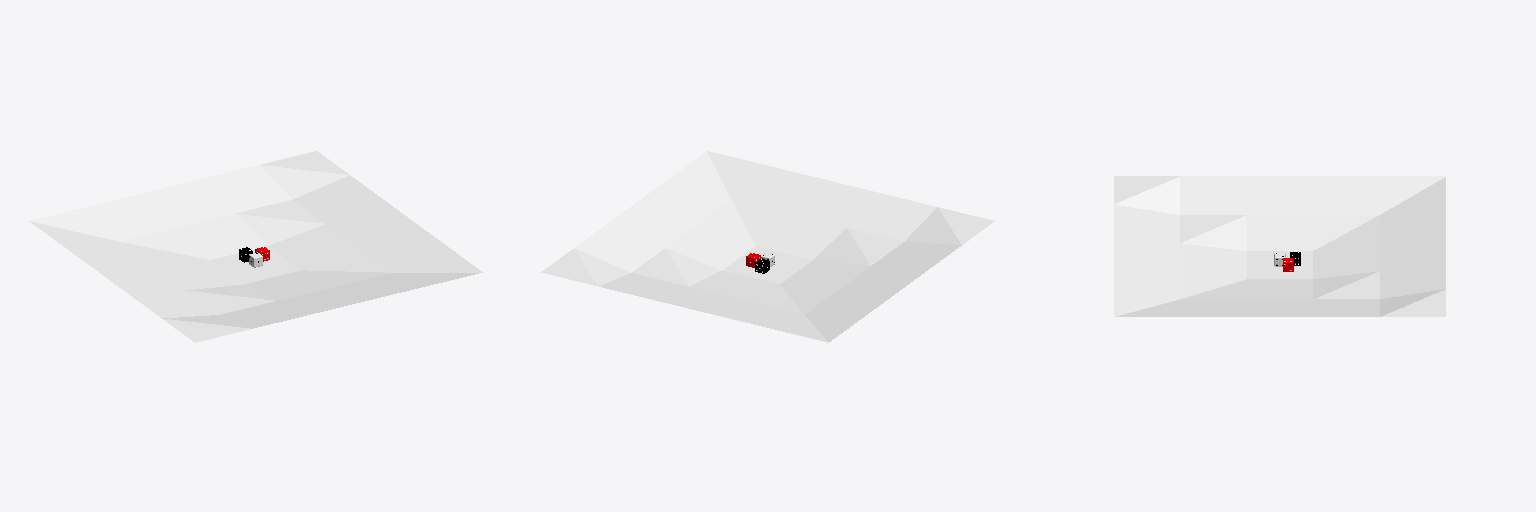
The model's file is Dices.obj.
3 views of the same model, side by side, from view 1: azimuth 30°, elevation 25°; view 2: azimuth 150°, elevation 25°; view 3: azimuth 270°, elevation 25° (orthographic).
Visible parts, largest first — view 1: Floor; view 2: Floor; view 3: Floor.
Boxes of the visible parts, x1=… form: Floor: x1=29, y1=151, x2=482, y2=342; Floor: x1=541, y1=151, x2=994, y2=342; Floor: x1=1114, y1=176, x2=1445, y2=316.
Bounding box in the file's own units: 300 × 18.28 × 300.